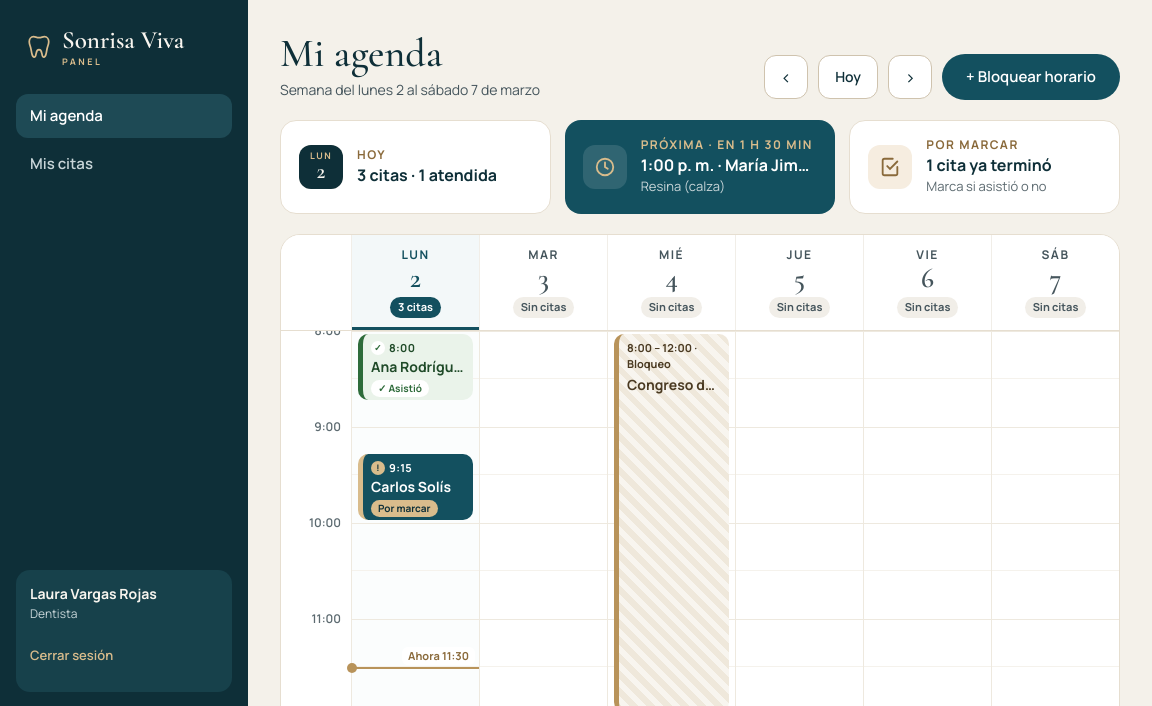
Test: Agenda semanal › crear bloqueo con 409 muestra el mensaje en el diálogo
Click the button "+ Bloquear horario" at (1031, 77), box [942,54,1120,100]
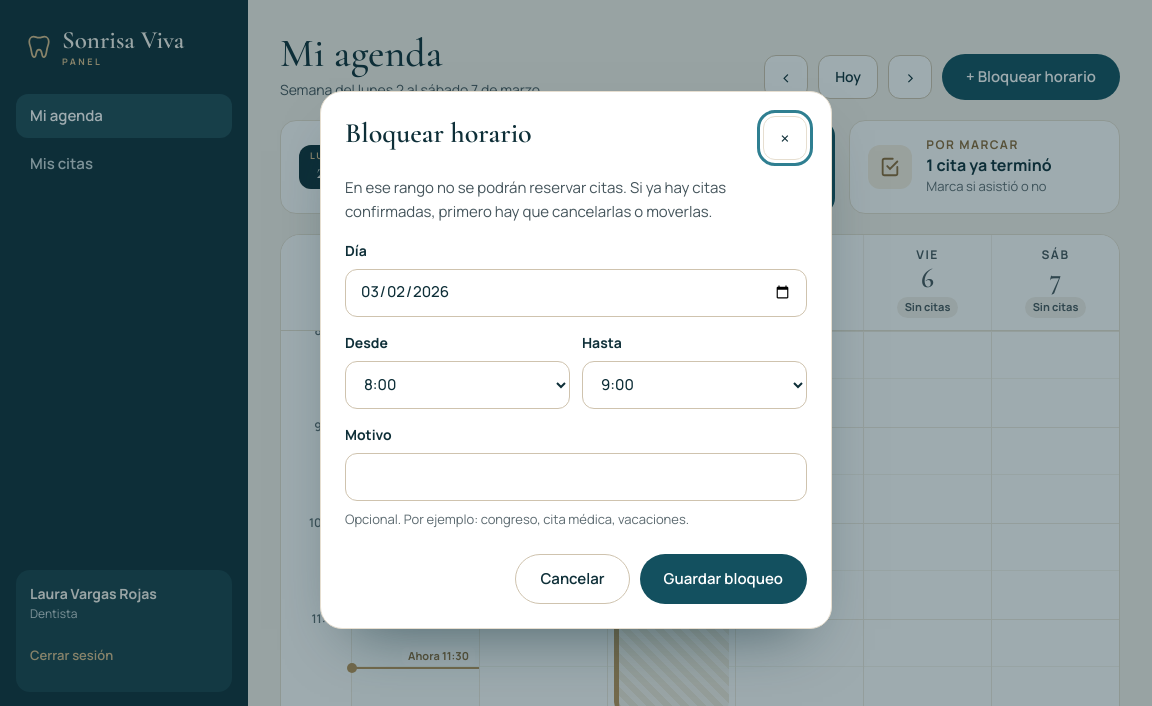
Select "13:00" in the dropdown labelled "Desde" at (458, 385), box [345,361,570,409]
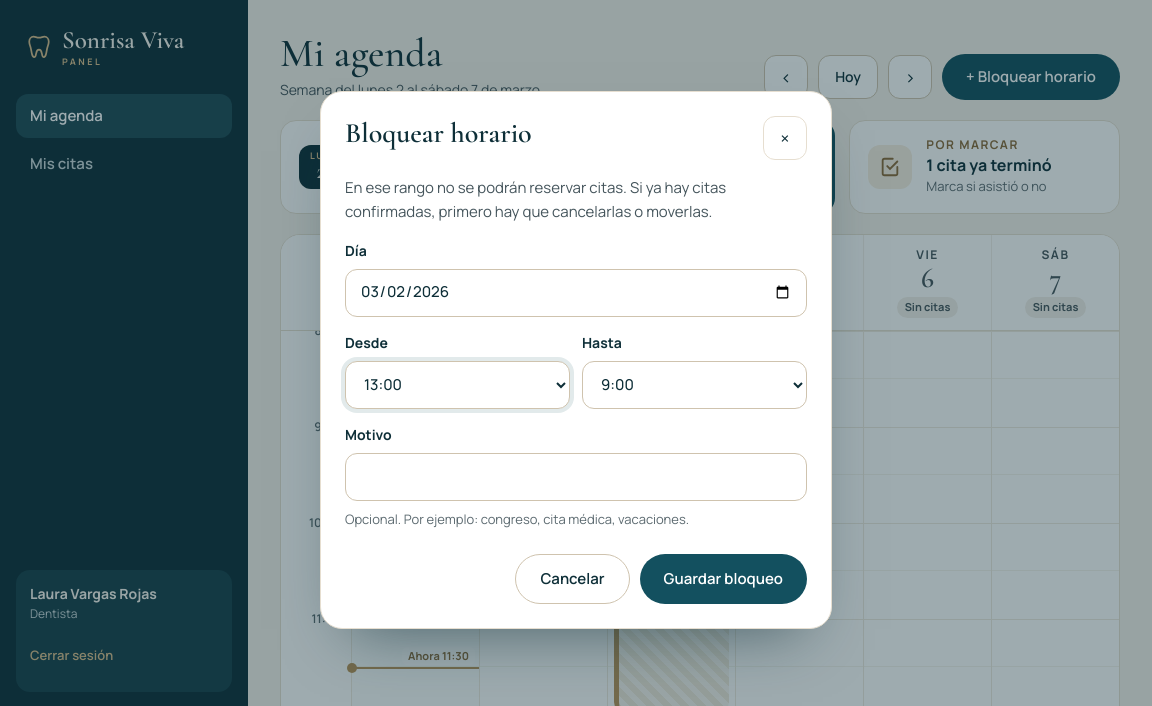
Select "15:00" in the dropdown labelled "Hasta" at (694, 385), box [582,361,807,409]
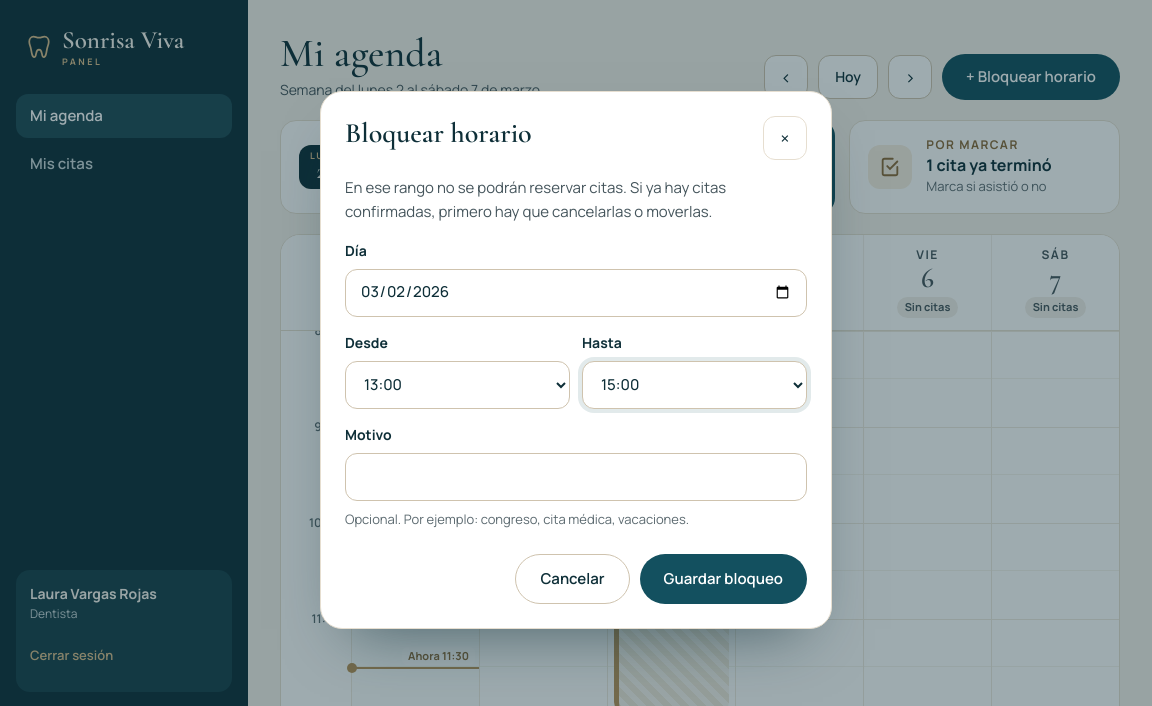
Type "Cita médica" into the field labelled "Motivo" at (576, 477), box [345,453,807,501]
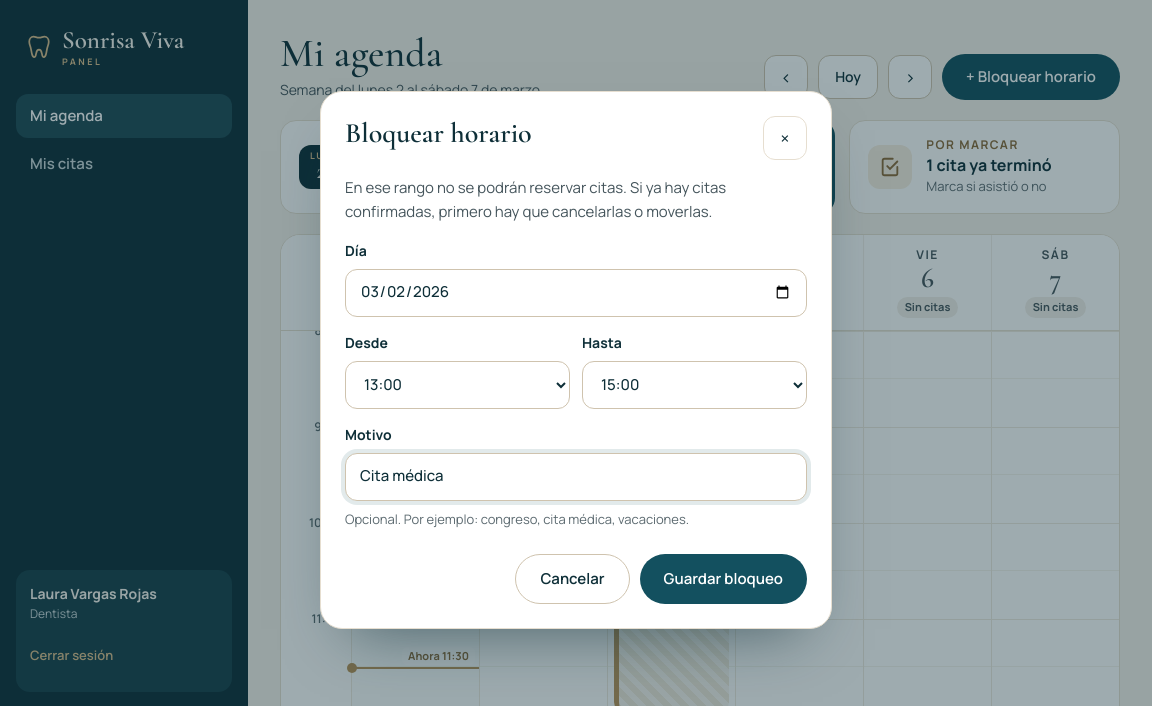
Click the button "Guardar bloqueo" at (723, 579), box [640,554,807,604]
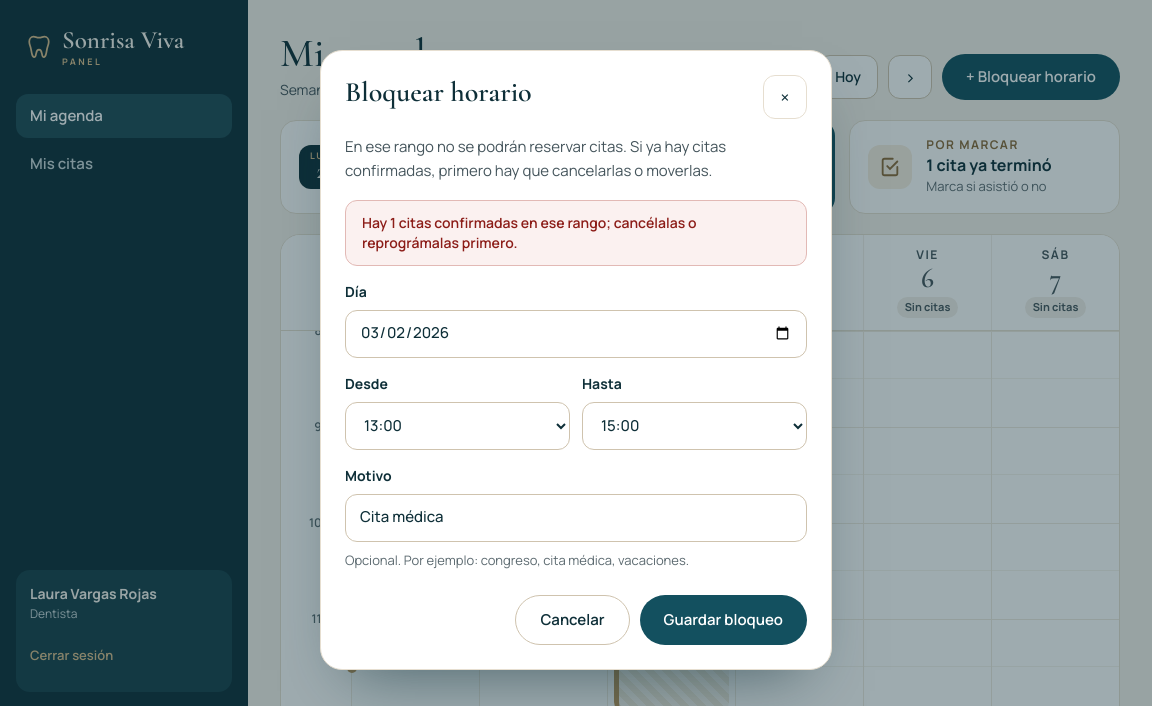
Now the message reads "Hay 1 citas confirmadas en ese rango; cancélalas o reprográmalas primero.", box [362,213,696,252]
